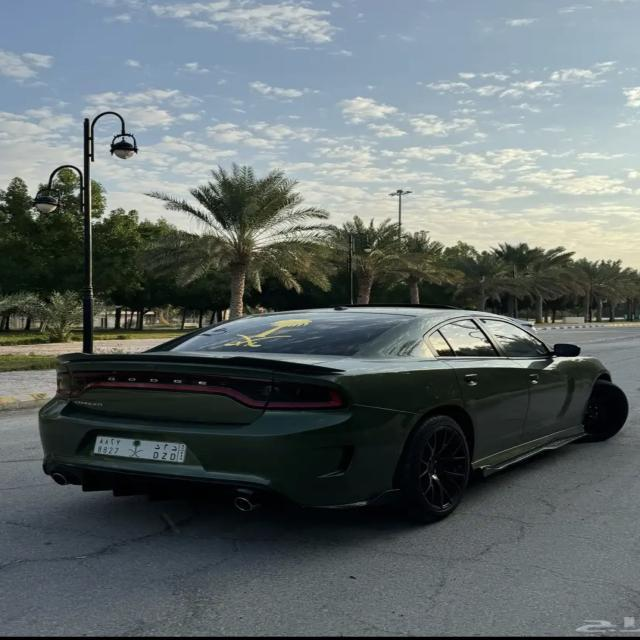license_plate: (94, 434, 190, 466)
